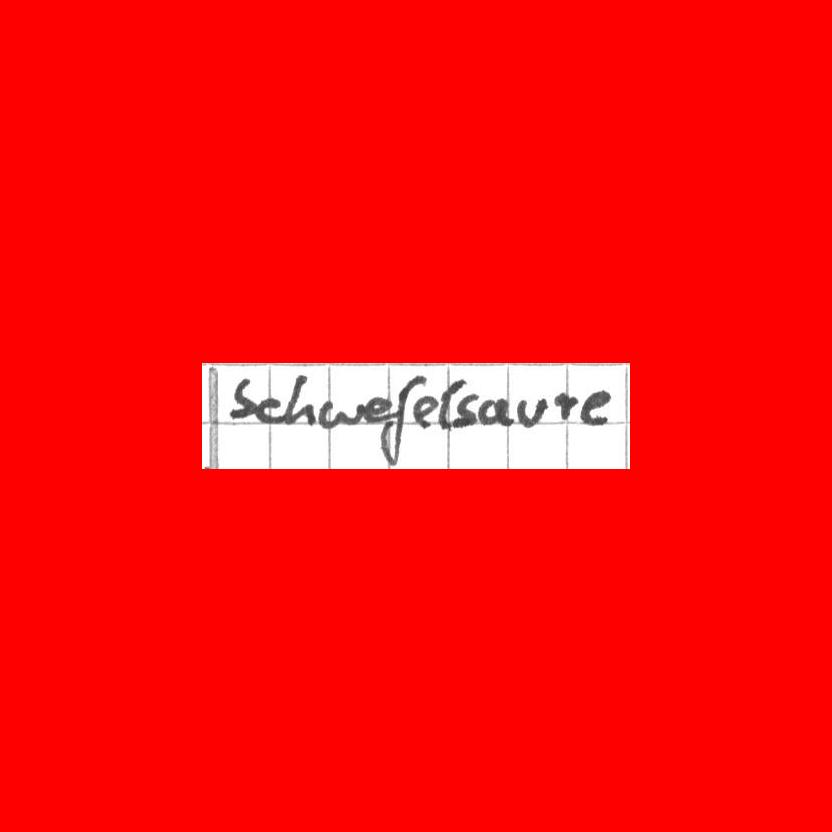Char: (381, 369, 420, 464), (316, 398, 365, 433), (283, 372, 315, 424), (579, 387, 615, 427), (436, 374, 461, 431), (474, 395, 515, 428), (513, 393, 549, 430), (230, 375, 258, 420), (255, 392, 290, 426), (453, 390, 481, 430), (411, 393, 440, 430), (362, 392, 392, 426), (552, 390, 579, 423)
